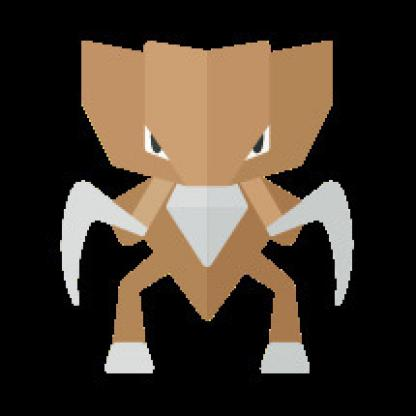Kabutops: (67, 31, 361, 377)
